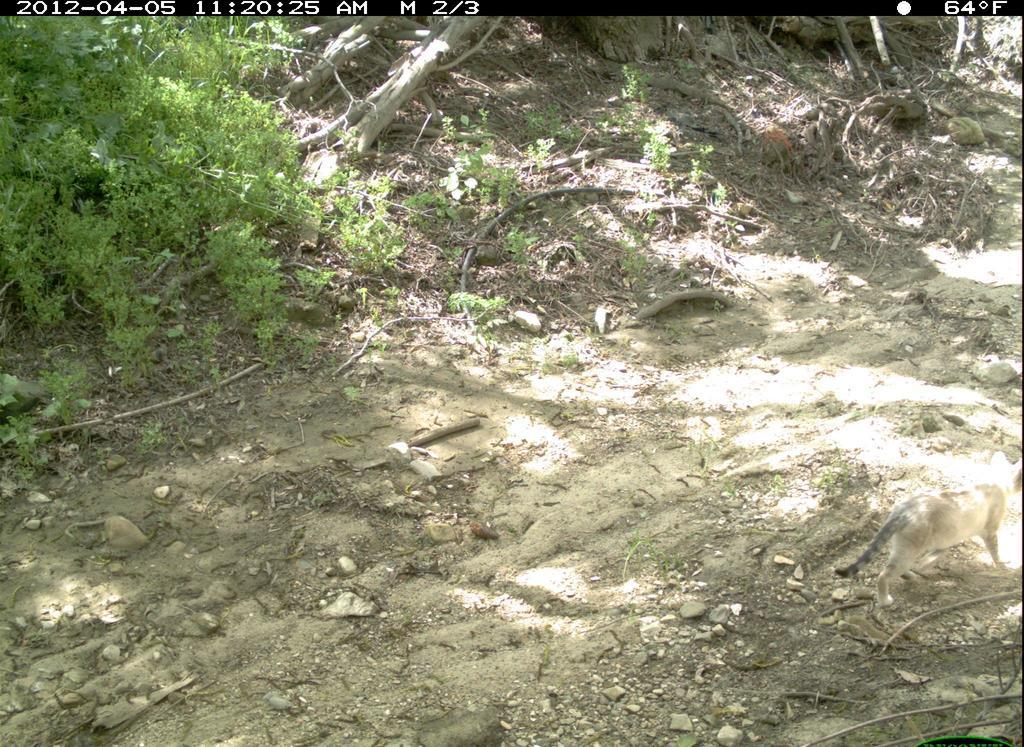cat: (829, 446, 1022, 619)
